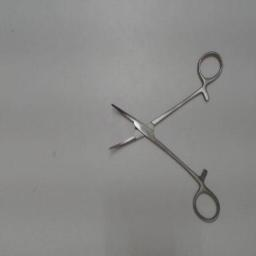Crile Artery Forceps: (104, 46, 226, 226)
